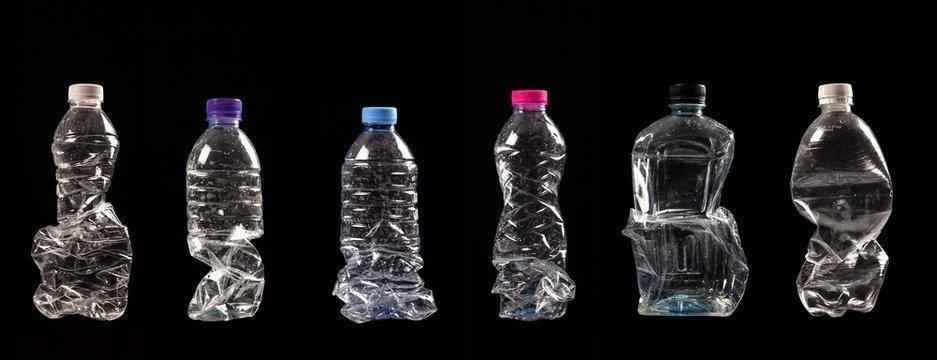bottle-plastic: (623, 78, 747, 320), (788, 79, 897, 321), (37, 79, 134, 323), (333, 102, 435, 326), (488, 85, 574, 324), (181, 94, 268, 325)
